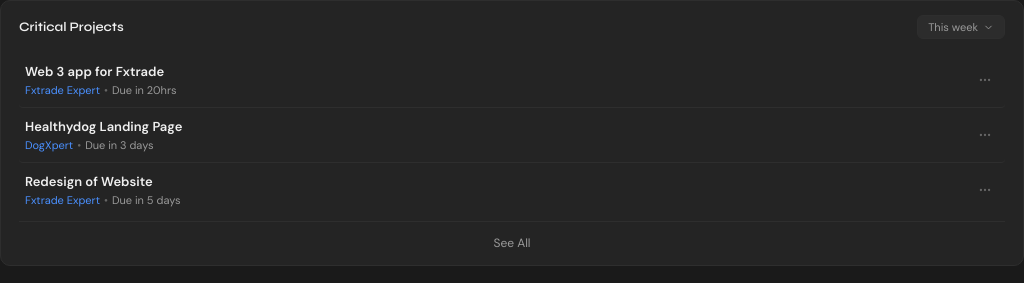
Test: CriticalProjectsPanel › opens the three-dot context menu with View/Edit/Archive/Delete actions
The width and height of the screenshot is (1024, 283).
Click the 1st button named "more options": (985, 80) [971,66,999,94]
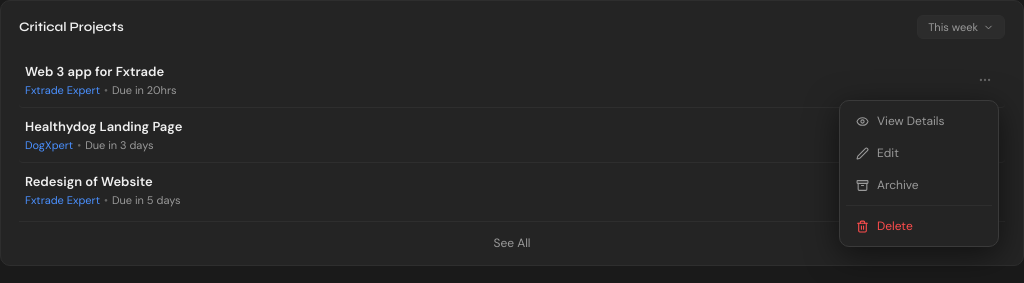
Expected: the menu item "Delete" is shown, [856,218,913,234]
